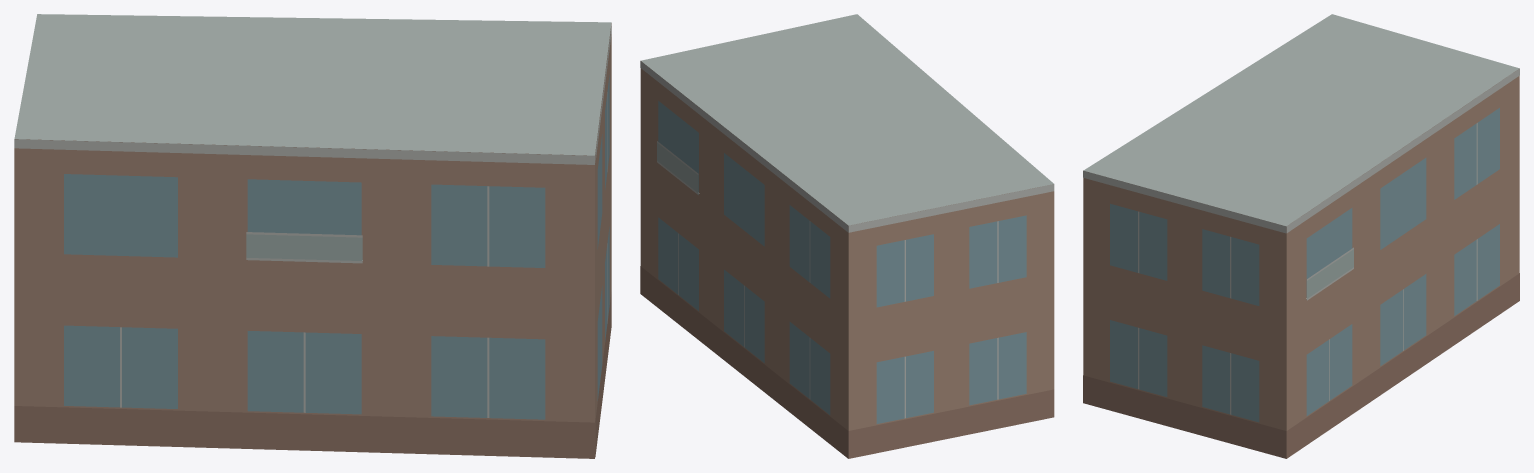
File: survey-upis-32542743.glb
The picture shows the model from 3 angles, left to right: view 1: azimuth 30°, elevation 25°; view 2: azimuth 150°, elevation 25°; view 3: azimuth 270°, elevation 25°; orthographic projection. The views are drawn at different scales.
Parts seen in each view (by area): view 1: survey-upis-32542743.tmp; view 2: survey-upis-32542743.tmp; view 3: survey-upis-32542743.tmp.
Part boxes in pixels (box(x1,y1,x2,y2)): survey-upis-32542743.tmp: box(14, 14, 611, 458); survey-upis-32542743.tmp: box(640, 14, 1054, 458); survey-upis-32542743.tmp: box(1083, 14, 1519, 458).
Bounding box in the file's own units: 15.48 × 7.9 × 13.45.
